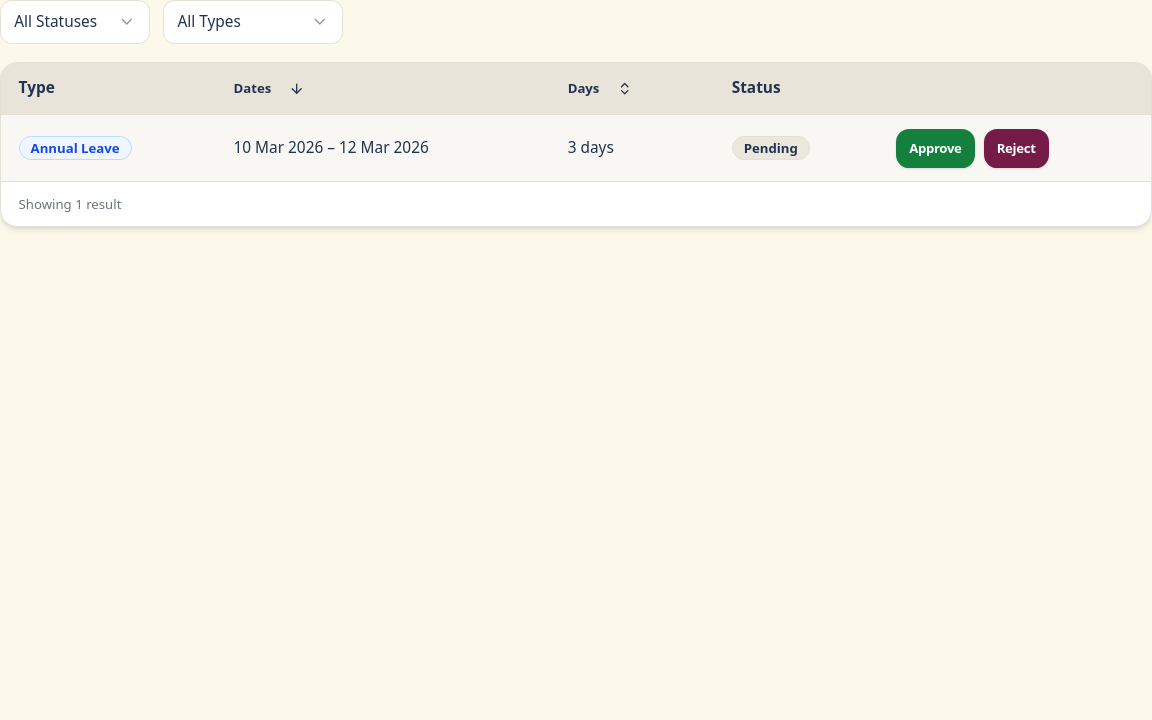
Test: LeaveRequestTable › disables Reject button when reason is empty
Click the button "Reject" at coordinates (1016, 148), box top-left (984, 129), bottom-right (1049, 168)
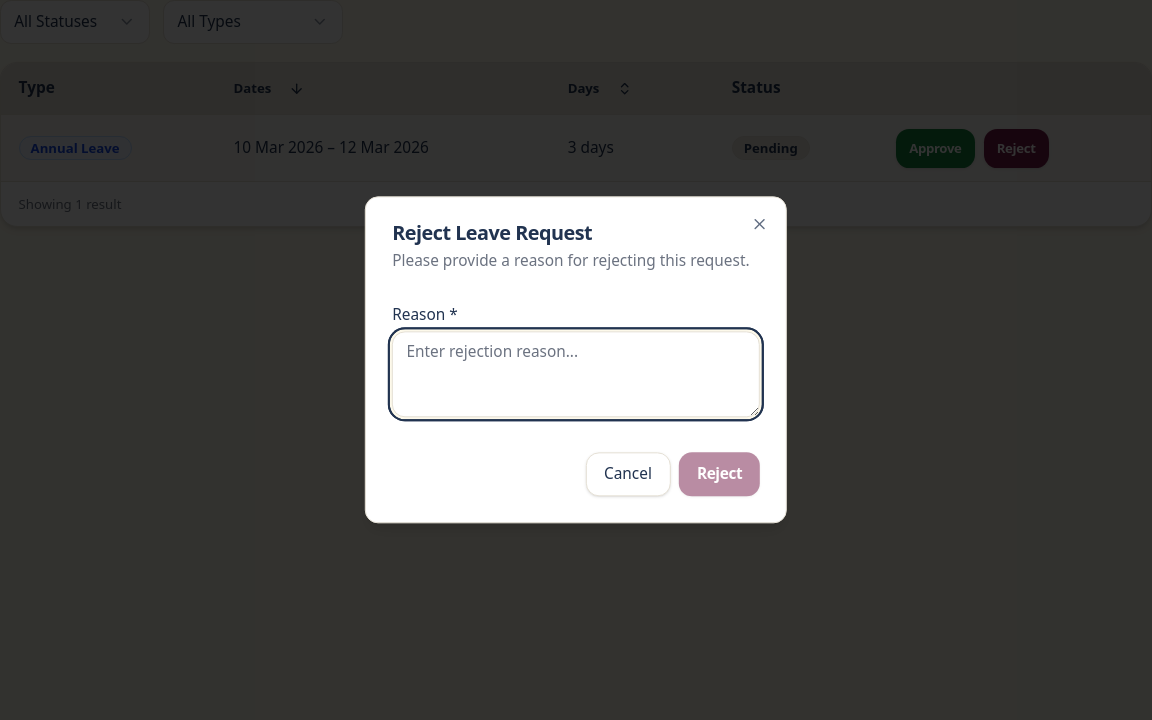
Now the button "Reject" is disabled, box top-left (679, 452), bottom-right (760, 496)
